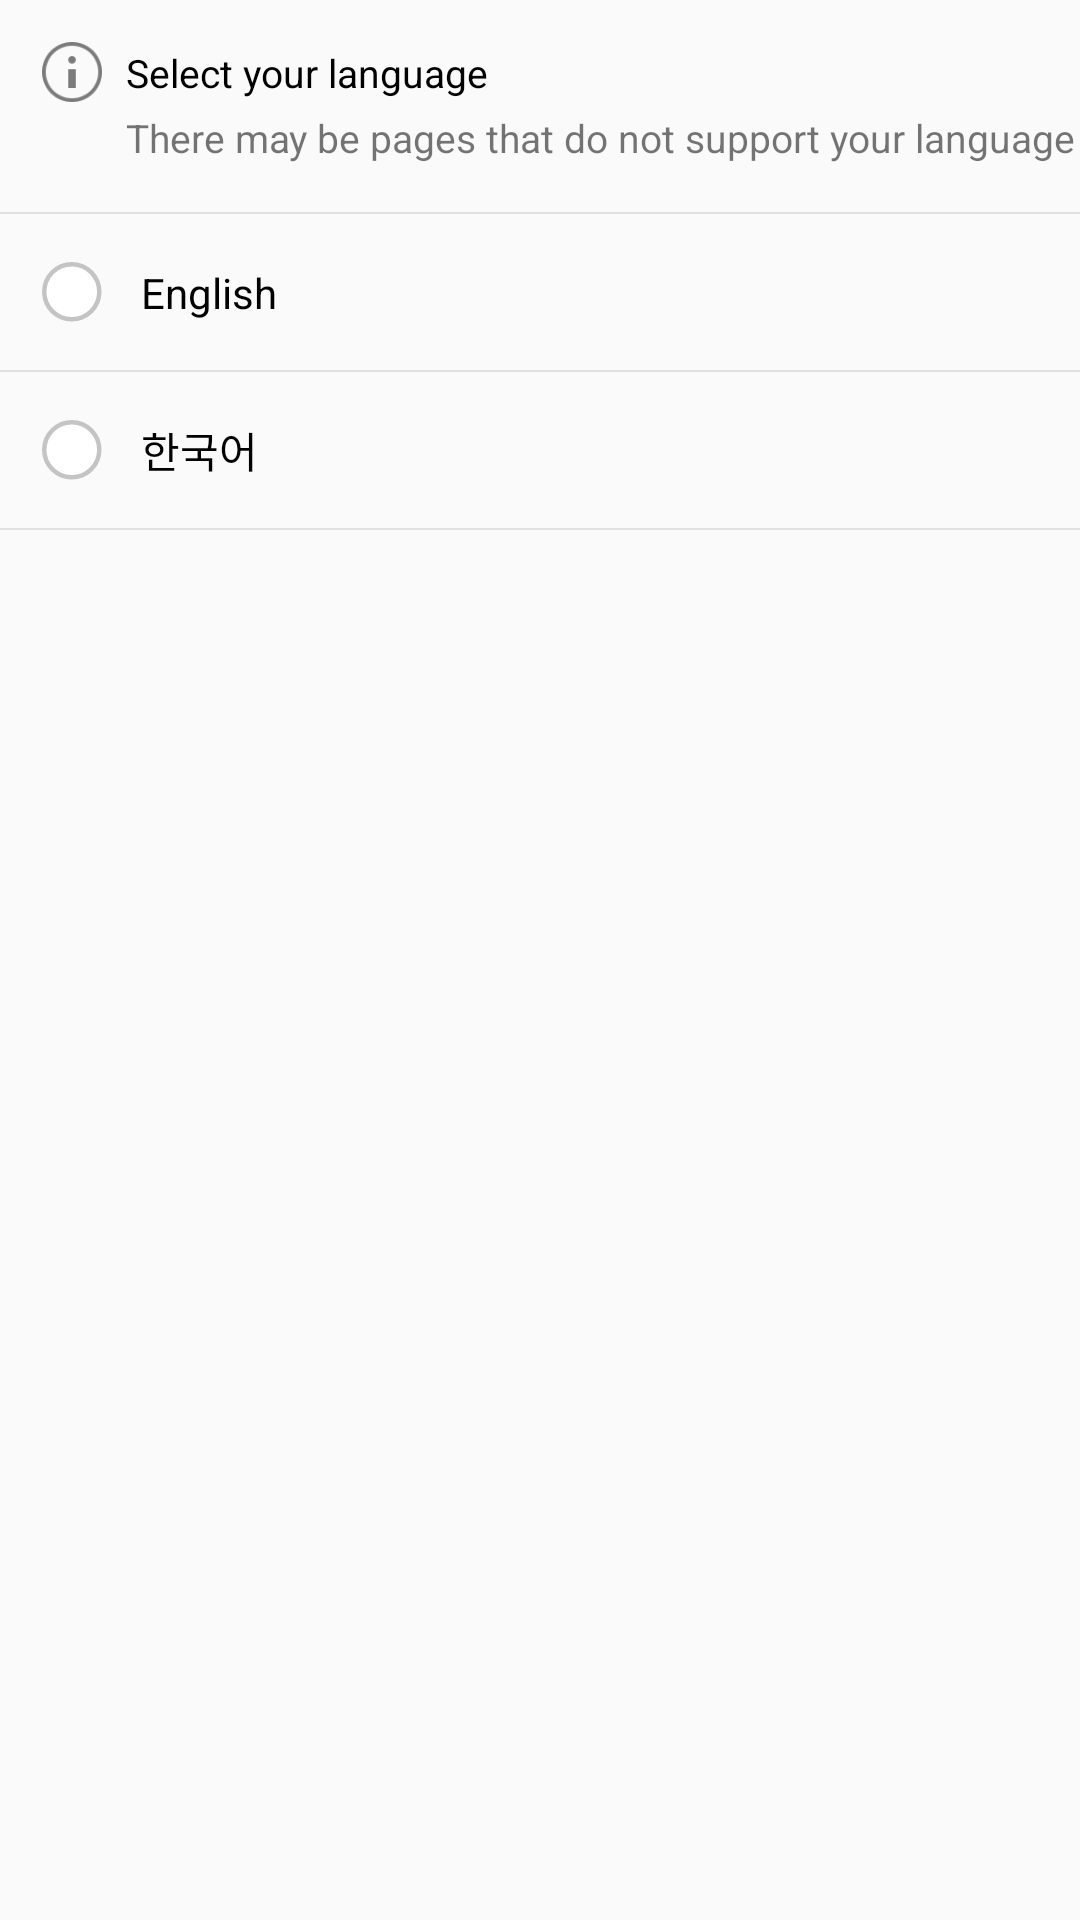

Icons on this 1080 x 1920 Android screen, each with the point to tap as (x,y):
info: (72,72)
radio off: (72,292), (72,450)
